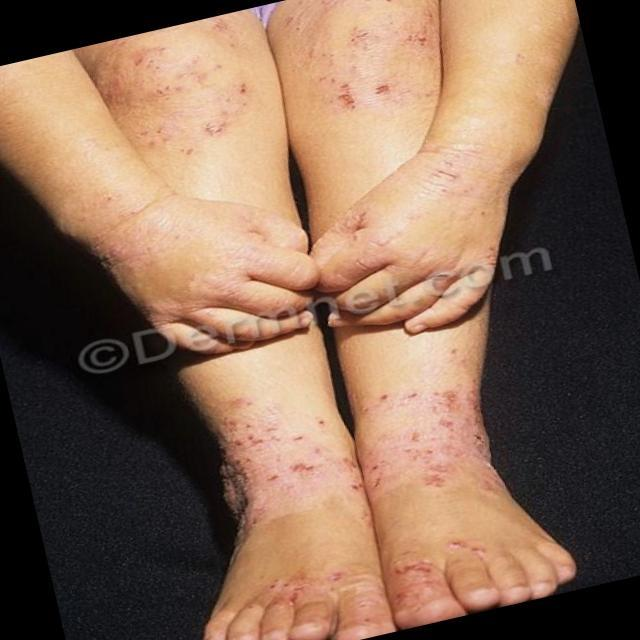Eczema: (208, 390, 356, 529), (361, 376, 514, 488), (117, 53, 232, 150), (316, 21, 428, 109), (252, 564, 394, 618), (396, 532, 491, 601)
